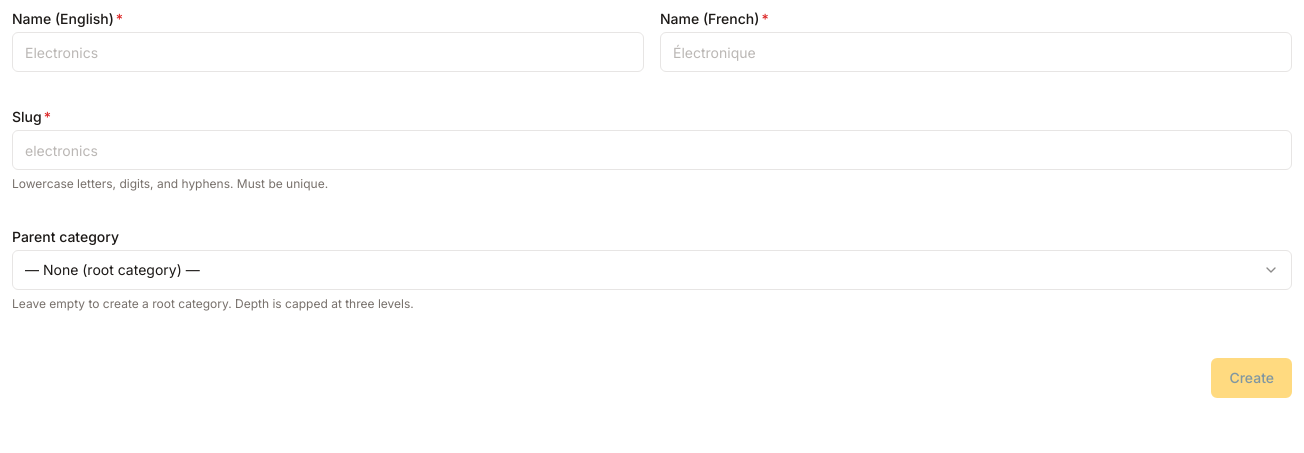
Scenario: CategoryForm (create mode) › hides depth-2 options from the parent dropdown
Expected: the text "Parent category" is shown, [12, 228, 119, 245]
Step 1. Click the dropdown → (112, 270), box [12, 250, 1292, 290]
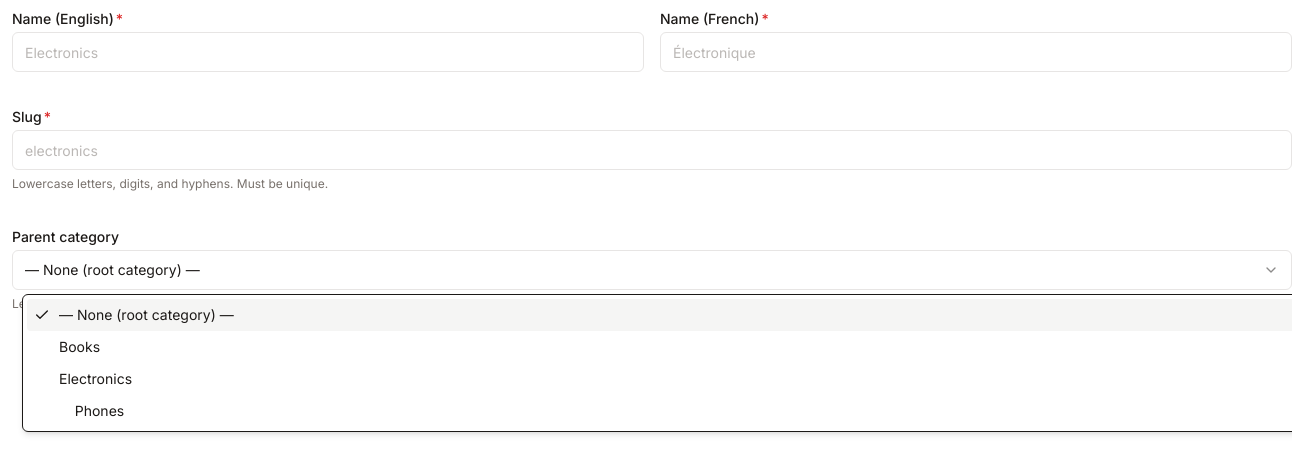
Expected: the text "Electronics" is shown, [59, 370, 132, 387]
Expected: the text "Phones" is shown, [75, 402, 124, 419]
Expected: the text "Books" is shown, [59, 338, 100, 355]
